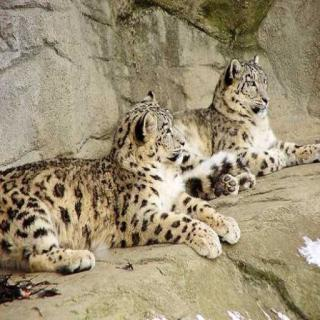Leopard: (0, 99, 256, 276)
